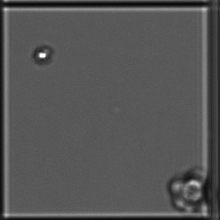Living Cell: (29, 37, 54, 68)
